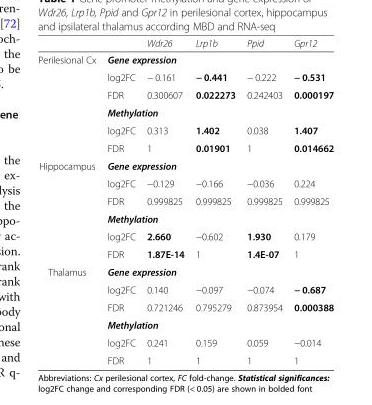table: (37, 37, 333, 365)
table column: (37, 37, 100, 365), (189, 37, 240, 365), (140, 37, 189, 365), (240, 37, 287, 365), (287, 37, 333, 365), (100, 37, 140, 365)
table column header: (37, 37, 333, 50)
table row: (37, 67, 333, 85), (37, 85, 333, 103), (37, 103, 333, 121), (37, 138, 333, 156), (37, 156, 333, 174), (37, 174, 333, 192), (37, 209, 333, 227), (37, 227, 333, 245), (37, 262, 333, 280), (37, 280, 333, 298), (37, 315, 333, 333), (37, 333, 333, 351), (37, 50, 333, 67), (37, 121, 333, 138), (37, 192, 333, 209), (37, 245, 333, 262), (37, 298, 333, 315), (37, 351, 333, 365), (37, 37, 333, 50)
table spanning cell: (37, 50, 100, 156), (37, 156, 100, 262), (37, 262, 100, 365), (100, 103, 333, 121), (100, 156, 333, 174), (100, 209, 333, 227), (100, 262, 333, 280), (100, 315, 333, 333), (100, 50, 333, 67)
